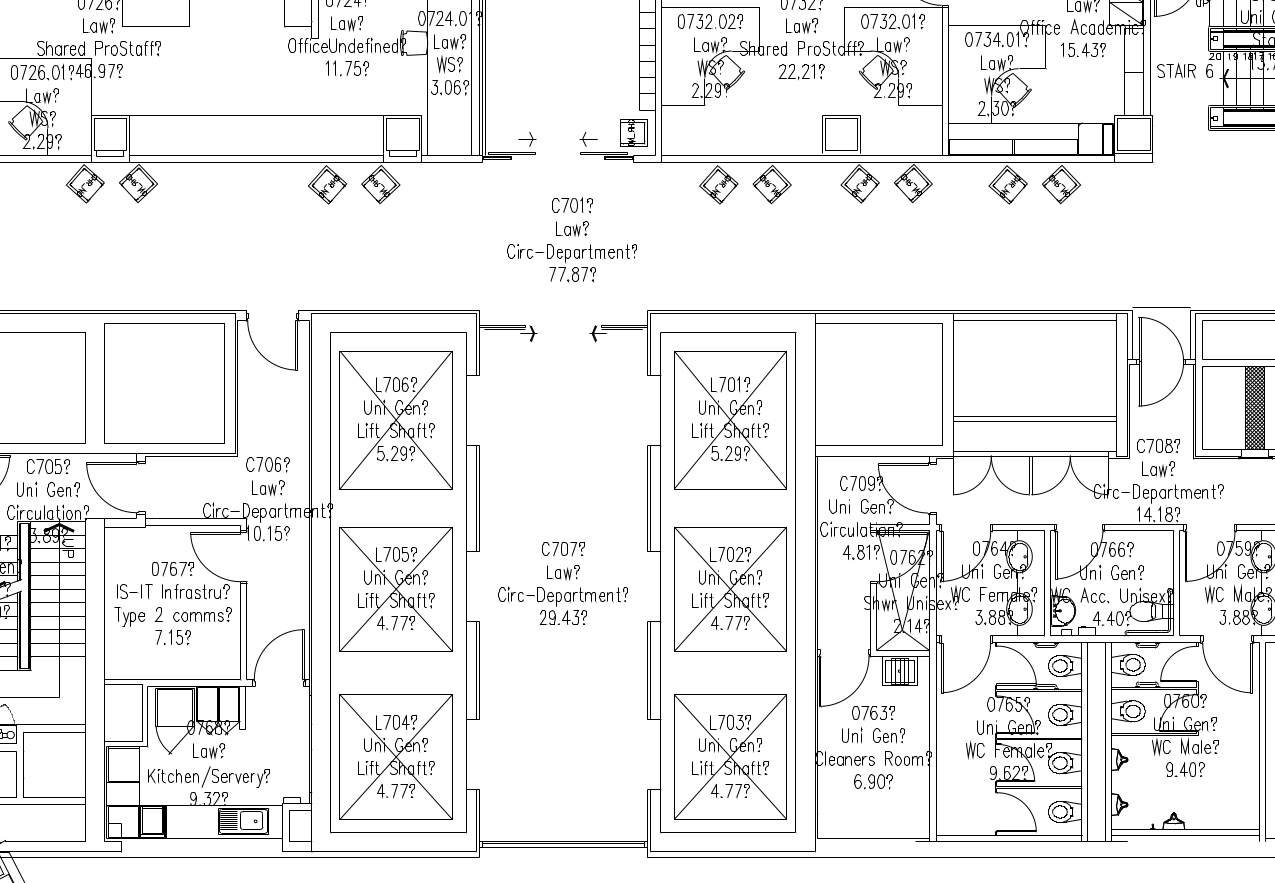door: (1137, 312, 1188, 415), (866, 458, 938, 524), (250, 618, 306, 693), (243, 308, 299, 383), (815, 644, 875, 708), (937, 632, 997, 696), (939, 520, 999, 584), (1052, 519, 1112, 583), (1180, 522, 1240, 586), (1198, 633, 1258, 697), (84, 459, 147, 515), (185, 528, 248, 584), (1152, 641, 1203, 686), (989, 645, 1040, 690), (993, 690, 1044, 735), (993, 740, 1044, 785), (994, 789, 1045, 834), (946, 451, 997, 496), (985, 454, 1031, 499), (1030, 453, 1076, 498), (1069, 455, 1115, 500)
